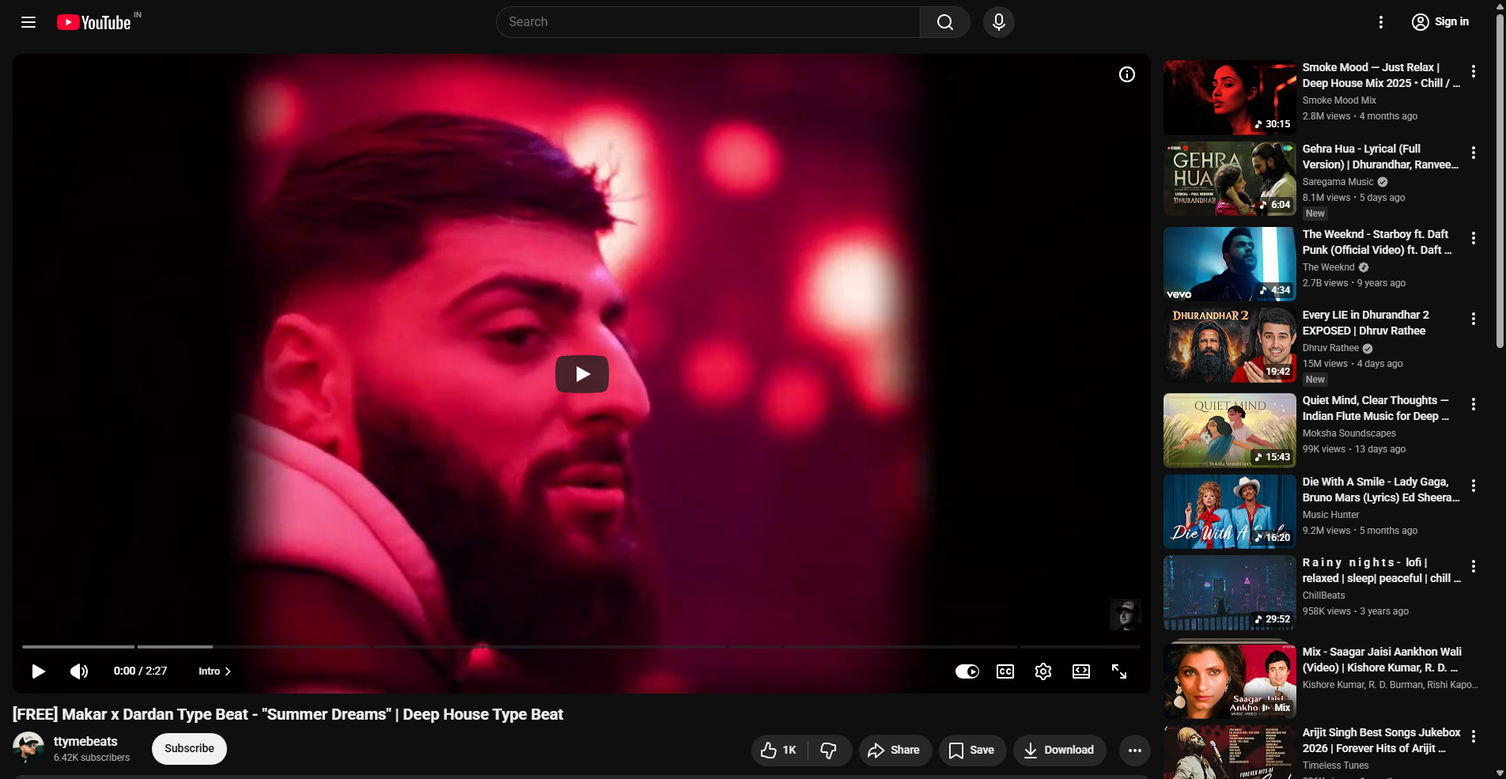button: (751, 735, 932, 766), (1013, 735, 1107, 766), (1403, 6, 1481, 38), (152, 733, 227, 765), (859, 735, 932, 766), (938, 735, 1007, 766), (555, 355, 609, 393), (986, 656, 1024, 707), (751, 735, 809, 766), (114, 656, 167, 688), (152, 765, 271, 779), (919, 6, 970, 38), (165, 733, 214, 765), (1045, 735, 1094, 766), (809, 735, 853, 766), (986, 656, 1024, 688), (1024, 656, 1062, 688), (1062, 656, 1100, 688), (1100, 656, 1138, 688), (1435, 6, 1469, 38), (22, 656, 54, 688), (63, 656, 95, 688), (13, 6, 44, 38), (983, 6, 1014, 38), (1366, 6, 1397, 38), (1119, 735, 1151, 766), (1458, 55, 1489, 87), (1458, 136, 1489, 168), (1458, 303, 1489, 335), (1458, 388, 1489, 420), (1458, 469, 1489, 501), (1458, 550, 1489, 582), (1458, 720, 1489, 752), (1458, 222, 1489, 253), (891, 735, 919, 766), (184, 765, 239, 779), (970, 735, 994, 766), (783, 735, 796, 766), (19, 13, 38, 32), (989, 13, 1008, 32), (1372, 13, 1391, 32), (1411, 13, 1430, 32), (759, 741, 778, 760), (819, 741, 838, 760), (867, 741, 886, 760), (946, 741, 965, 760), (1021, 741, 1040, 760), (1126, 741, 1145, 760), (1464, 62, 1483, 81), (1464, 143, 1483, 162), (1464, 228, 1483, 247), (1464, 309, 1483, 328), (1464, 395, 1483, 414), (1464, 476, 1483, 495), (1464, 557, 1483, 576), (1464, 727, 1483, 746), (160, 771, 179, 779), (244, 771, 263, 779)
icon: (13, 54, 1151, 694)
input: (509, 13, 916, 32)
link: (13, 54, 1151, 694), (1164, 141, 1303, 220), (1164, 308, 1303, 387), (1164, 60, 1303, 135), (1164, 393, 1303, 468), (1164, 474, 1303, 549), (1164, 555, 1303, 630), (1164, 644, 1303, 719), (1164, 227, 1303, 301), (1164, 725, 1303, 779), (1303, 60, 1481, 92), (1303, 141, 1481, 173), (1303, 393, 1481, 425), (1303, 474, 1481, 506), (1303, 555, 1481, 587), (1303, 644, 1481, 676), (1303, 725, 1481, 757), (1303, 227, 1481, 258), (1303, 308, 1481, 339), (44, 0, 142, 44), (13, 732, 54, 766), (54, 733, 119, 750)
slider: (22, 645, 1141, 650)
